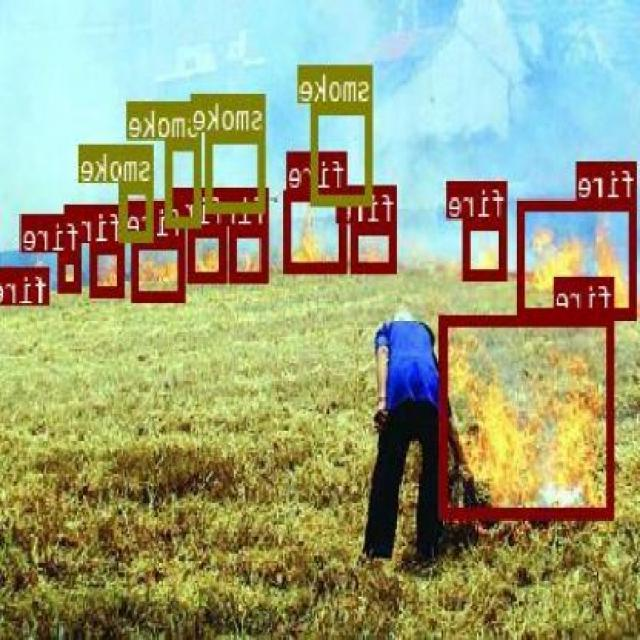Fire: (442, 315, 616, 517), (519, 198, 638, 317), (286, 188, 348, 272), (133, 238, 187, 298), (464, 217, 508, 277), (352, 223, 398, 271), (188, 226, 228, 280), (232, 226, 270, 280), (92, 242, 126, 296), (60, 252, 82, 290), (37, 266, 51, 291)
Smoke: (312, 103, 372, 203), (207, 132, 267, 212)
